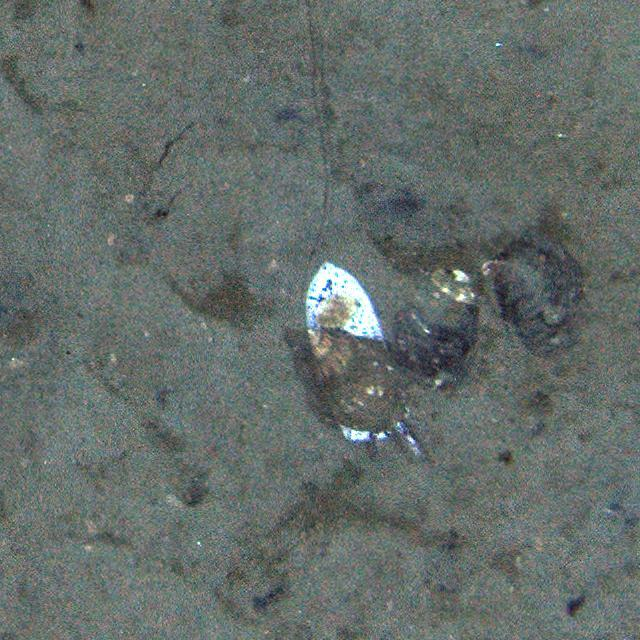whelk: (304, 324, 406, 430)
